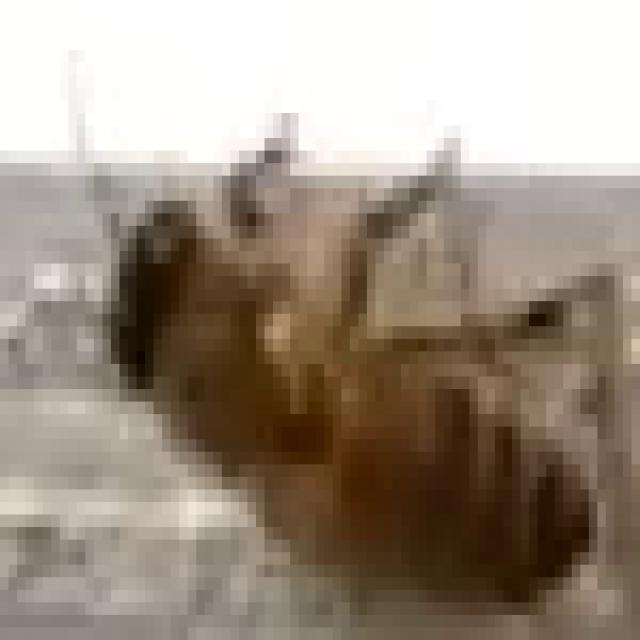honeybee: (112, 122, 610, 530)
